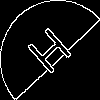H: (25, 25, 80, 84)
